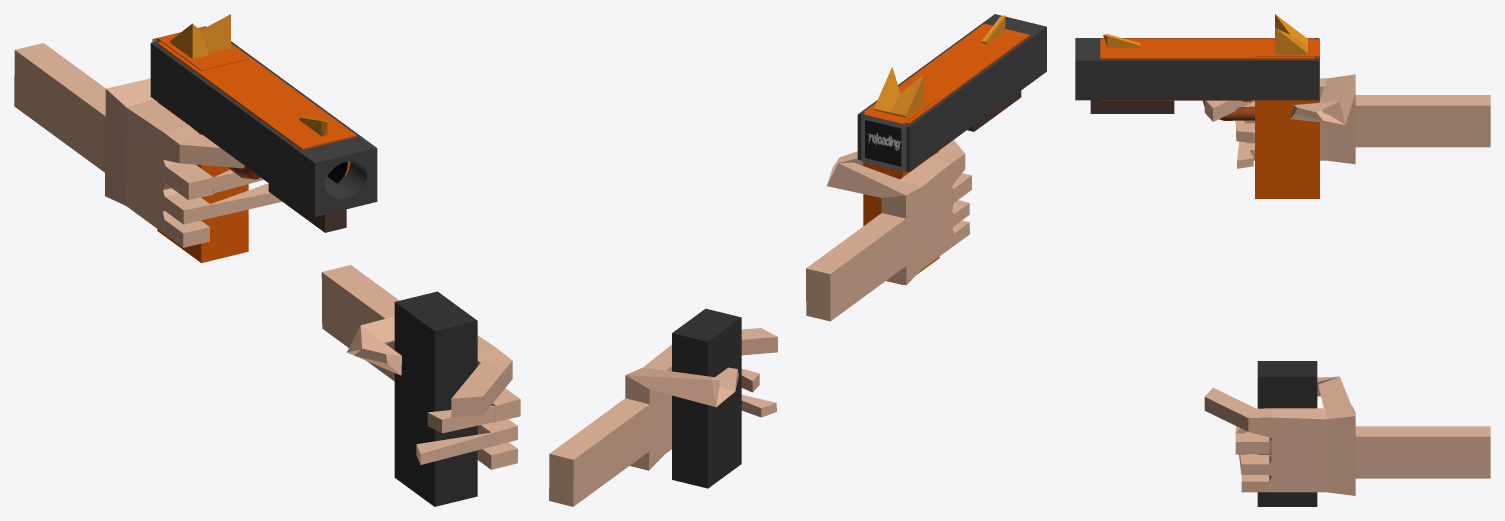
File: gun pistol realoading frame 5.fbx
The picture shows the model from 3 angles, left to right: view 1: azimuth 30°, elevation 25°; view 2: azimuth 150°, elevation 25°; view 3: azimuth 270°, elevation 25°; orthographic projection. The views are drawn at different scales.
Parts seen in each view (by area): view 1: Cube, Cube.005, Cube.004, Cube.008, Cube.001, Cube.002, Cube.006, Cube.003; view 2: Cube, Cube.008, Cube.004, Cube.005, Cube.001, Cube.006, Cube.002, Plane.001, Plane; view 3: Cube.008, Cube, Cube.005, Cube.002, Cube.004, Cube.001, Cube.003, Cube.006.
Part boxes in pixels (bbox=[...]): Cube: bbox=[14, 43, 281, 247]; Cube.005: bbox=[150, 41, 377, 216]; Cube.004: bbox=[394, 291, 477, 506]; Cube.008: bbox=[321, 265, 520, 469]; Cube.001: bbox=[157, 42, 356, 177]; Cube.002: bbox=[157, 26, 248, 262]; Cube.006: bbox=[170, 14, 230, 59]; Cube.003: bbox=[268, 183, 346, 232]; Cube: bbox=[806, 140, 971, 321]; Cube.008: bbox=[549, 328, 777, 506]; Cube.004: bbox=[672, 308, 741, 488]; Cube.005: bbox=[857, 14, 1046, 171]; Cube.001: bbox=[863, 23, 1029, 124]; Cube.006: bbox=[873, 67, 924, 117]; Cube.002: bbox=[863, 87, 939, 284]; Plane.001: bbox=[865, 120, 901, 166]; Plane: bbox=[861, 114, 906, 172]; Cube.008: bbox=[1204, 376, 1490, 495]; Cube: bbox=[1204, 74, 1490, 168]; Cube.005: bbox=[1075, 38, 1319, 100]; Cube.002: bbox=[1255, 39, 1319, 198]; Cube.004: bbox=[1257, 361, 1317, 506]; Cube.001: bbox=[1100, 38, 1314, 100]; Cube.003: bbox=[1090, 100, 1174, 113]; Cube.006: bbox=[1275, 14, 1307, 54].
Bounding box in the file's own units: 486 × 732 × 698.
11 materials, 1 textured.
